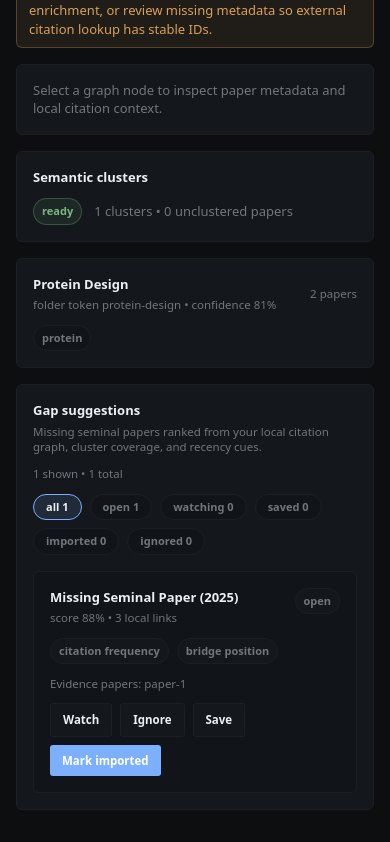
PaperLibrary gap suggestions › renders gap suggestions and updates their state from the graph panel
(page scrolled)
Expected: the text "Gap suggestions" is shown, [33,401,140,419]
Expected: the text "Missing Seminal Paper (2025)" is shown, [50,588,238,606]
Click the button "Watch". click: (81, 720)
box: [50,703,112,737]
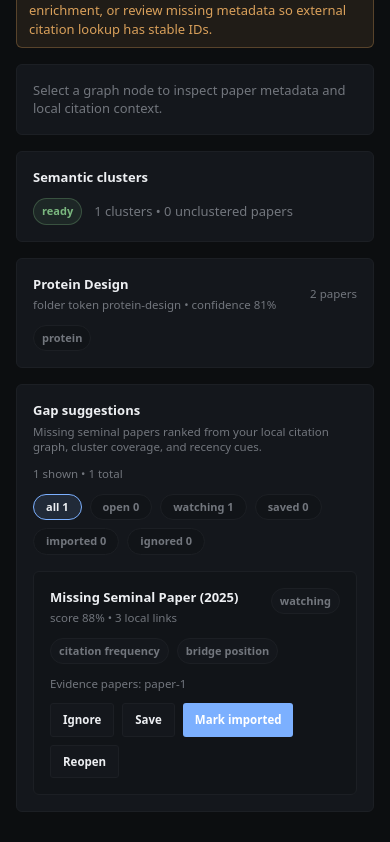
Now the text "watching" is shown, box [271,588,340,614]
